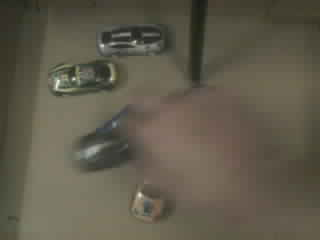Car: (49, 58, 118, 95), (97, 24, 165, 56), (132, 184, 163, 218)
